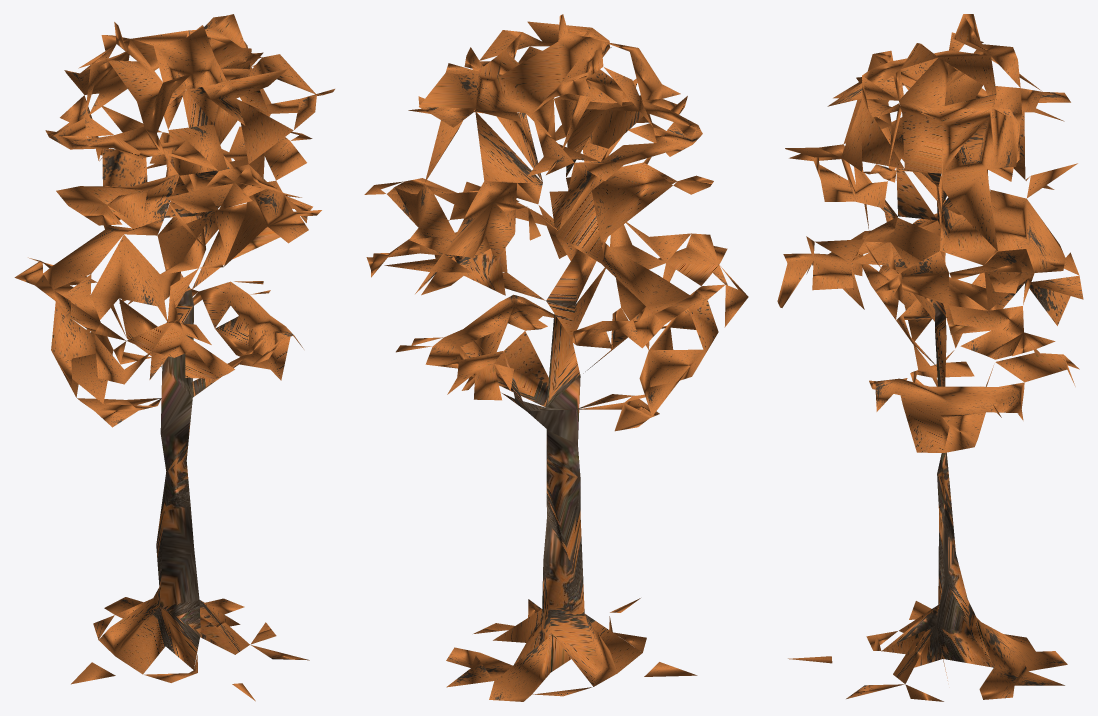
Rendered from tree_ember_far.glb.
3 views of the same model, side by side, from view 1: azimuth 30°, elevation 25°; view 2: azimuth 150°, elevation 25°; view 3: azimuth 270°, elevation 25° (orthographic).
Size of the model in its own units: 0.9098 by 1.84 by 0.8209.
Materials: 1 (1 with a texture image).
